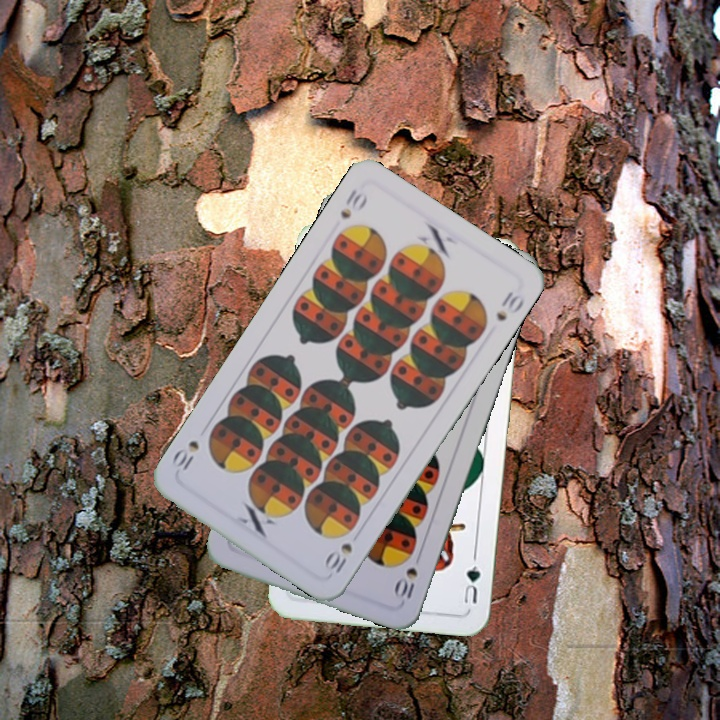GU: (459, 561, 483, 608)
S10: (391, 548, 423, 605), (336, 184, 371, 222), (322, 538, 355, 578)
